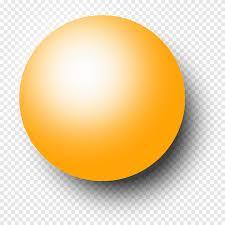oball: (18, 18, 186, 182)
